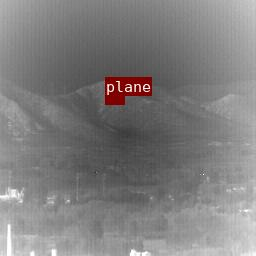plane: (105, 96, 124, 104)
